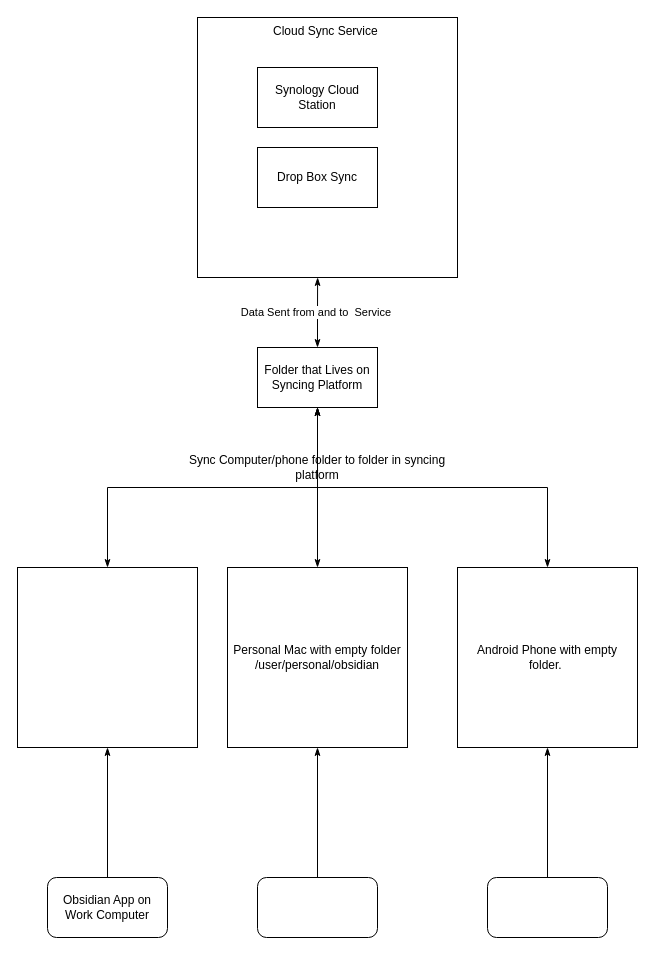
Image size: 655x955. Some labels were removed from this diagram. The shapes that lost their labels are listed below. From the top down, each one's centre as x and y in pixels, then its label:
At (107,657): "Work Mac with empty folder /user/professional/obsidian".
At (317,907): "Obsidian App on Personal Computer".
At (547,907): "Obsidian App on Android Phone".
